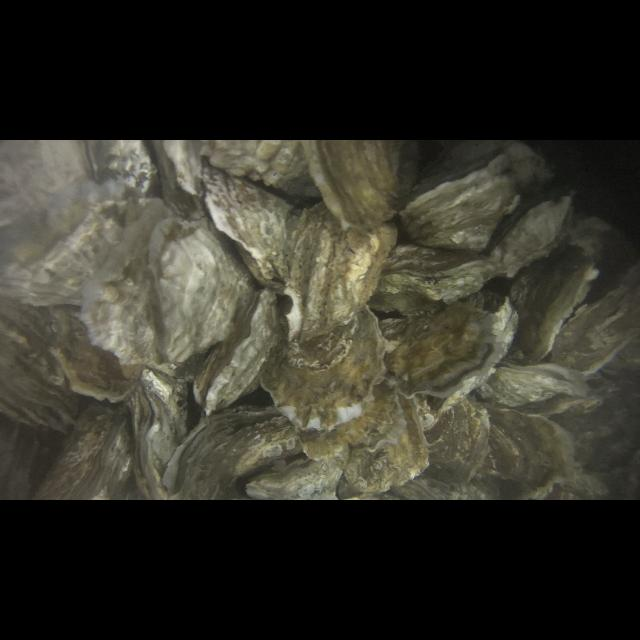Oyster-Closed: (378, 290, 520, 424), (78, 199, 184, 377), (285, 200, 401, 344), (262, 302, 391, 430), (507, 215, 609, 367), (150, 220, 254, 368), (400, 145, 532, 249), (164, 406, 306, 500), (192, 286, 284, 416), (202, 166, 296, 290), (547, 262, 640, 375), (301, 140, 414, 232), (38, 400, 134, 500), (48, 303, 136, 402), (344, 396, 431, 494), (370, 243, 496, 310), (125, 366, 187, 499), (486, 405, 576, 487), (422, 392, 491, 492), (491, 194, 573, 276), (240, 446, 350, 500), (476, 361, 588, 409)
